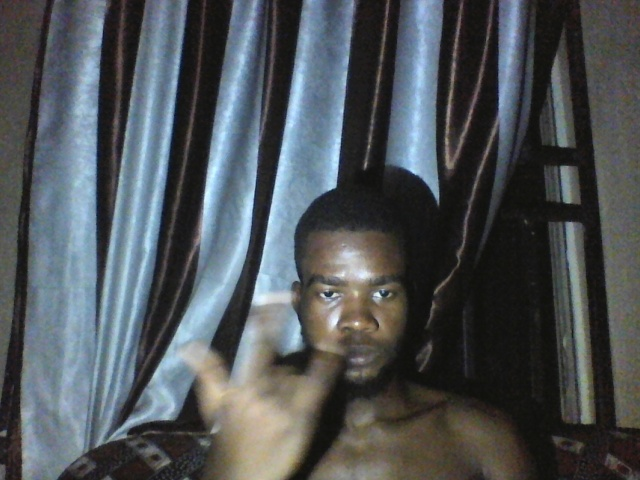i love you: (177, 290, 354, 476)
